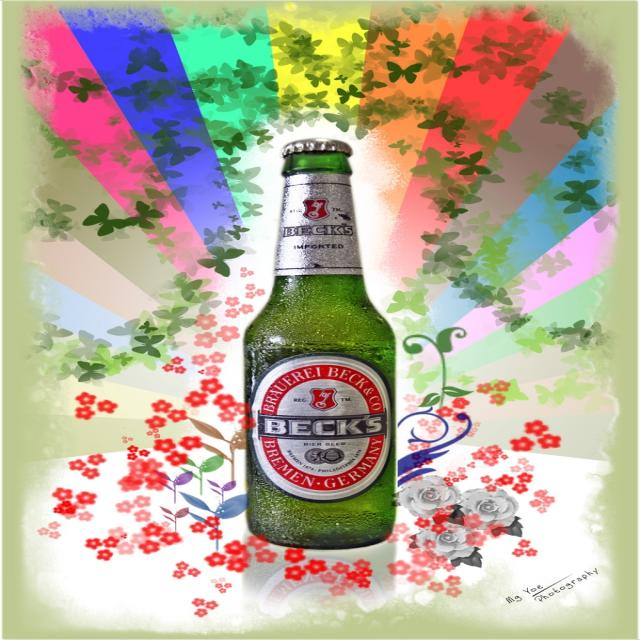becks: (252, 356, 392, 502)
